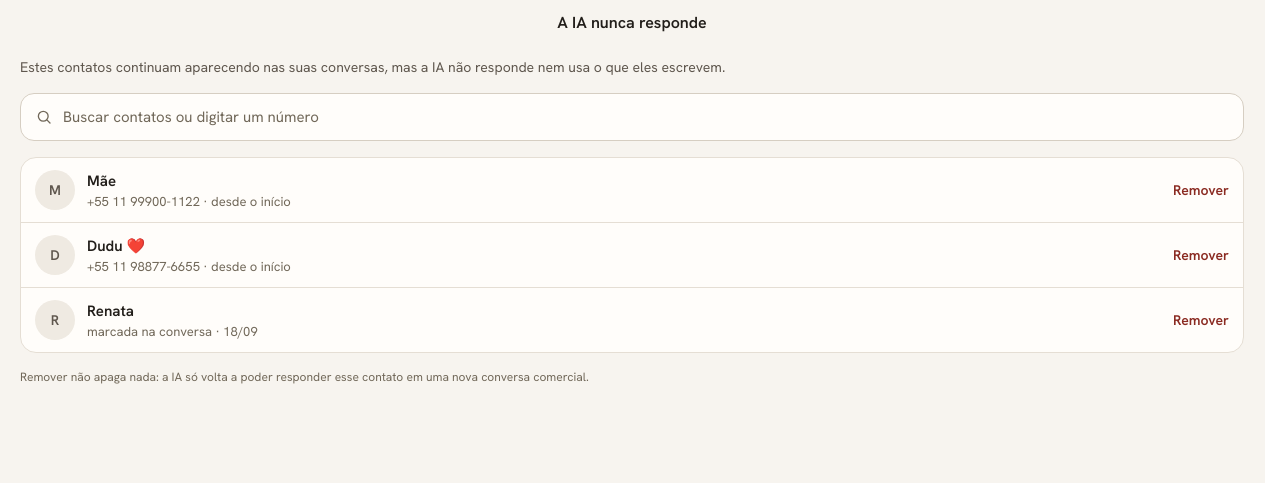
it: Goal140 a busca › a leitura anterior é cancelada quando o texto muda
The image size is (1265, 483).
Type "mar" into the search field labelled "Buscar contatos ou digitar um número" at (646, 117), box left=63, top=94, right=1229, bottom=140
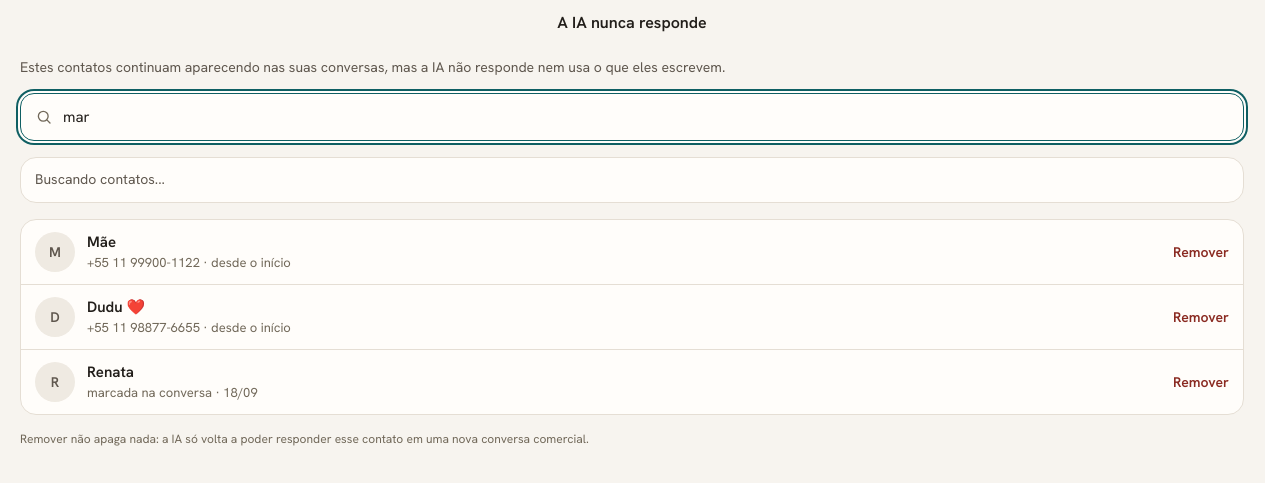
Type "i" into the search field named "Buscar contatos ou digitar um número" at (646, 117), box left=63, top=94, right=1229, bottom=140
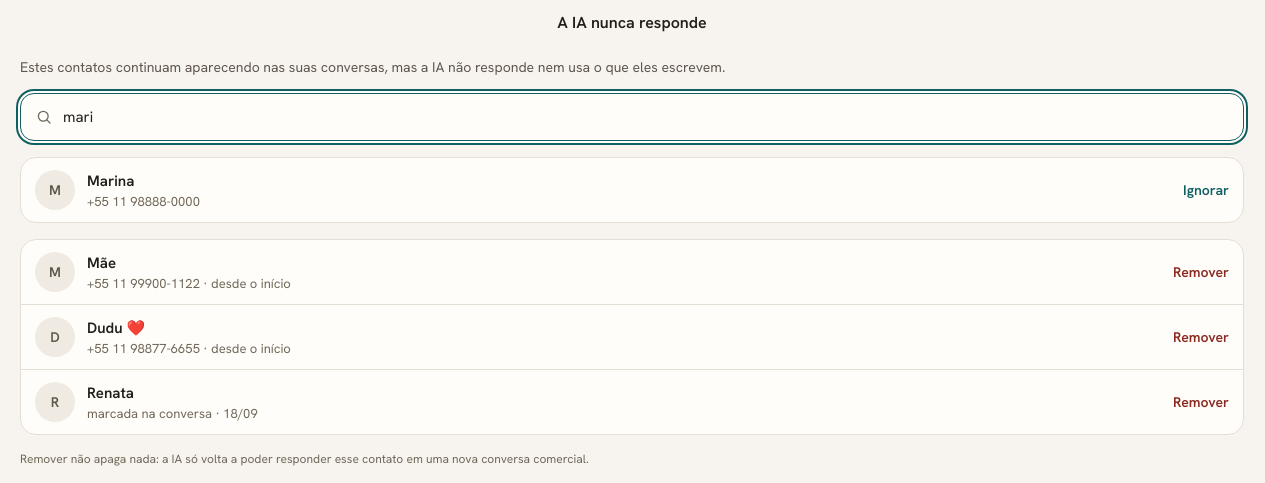
Expected: the text "Marina" is shown, left=87, top=171, right=134, bottom=191
